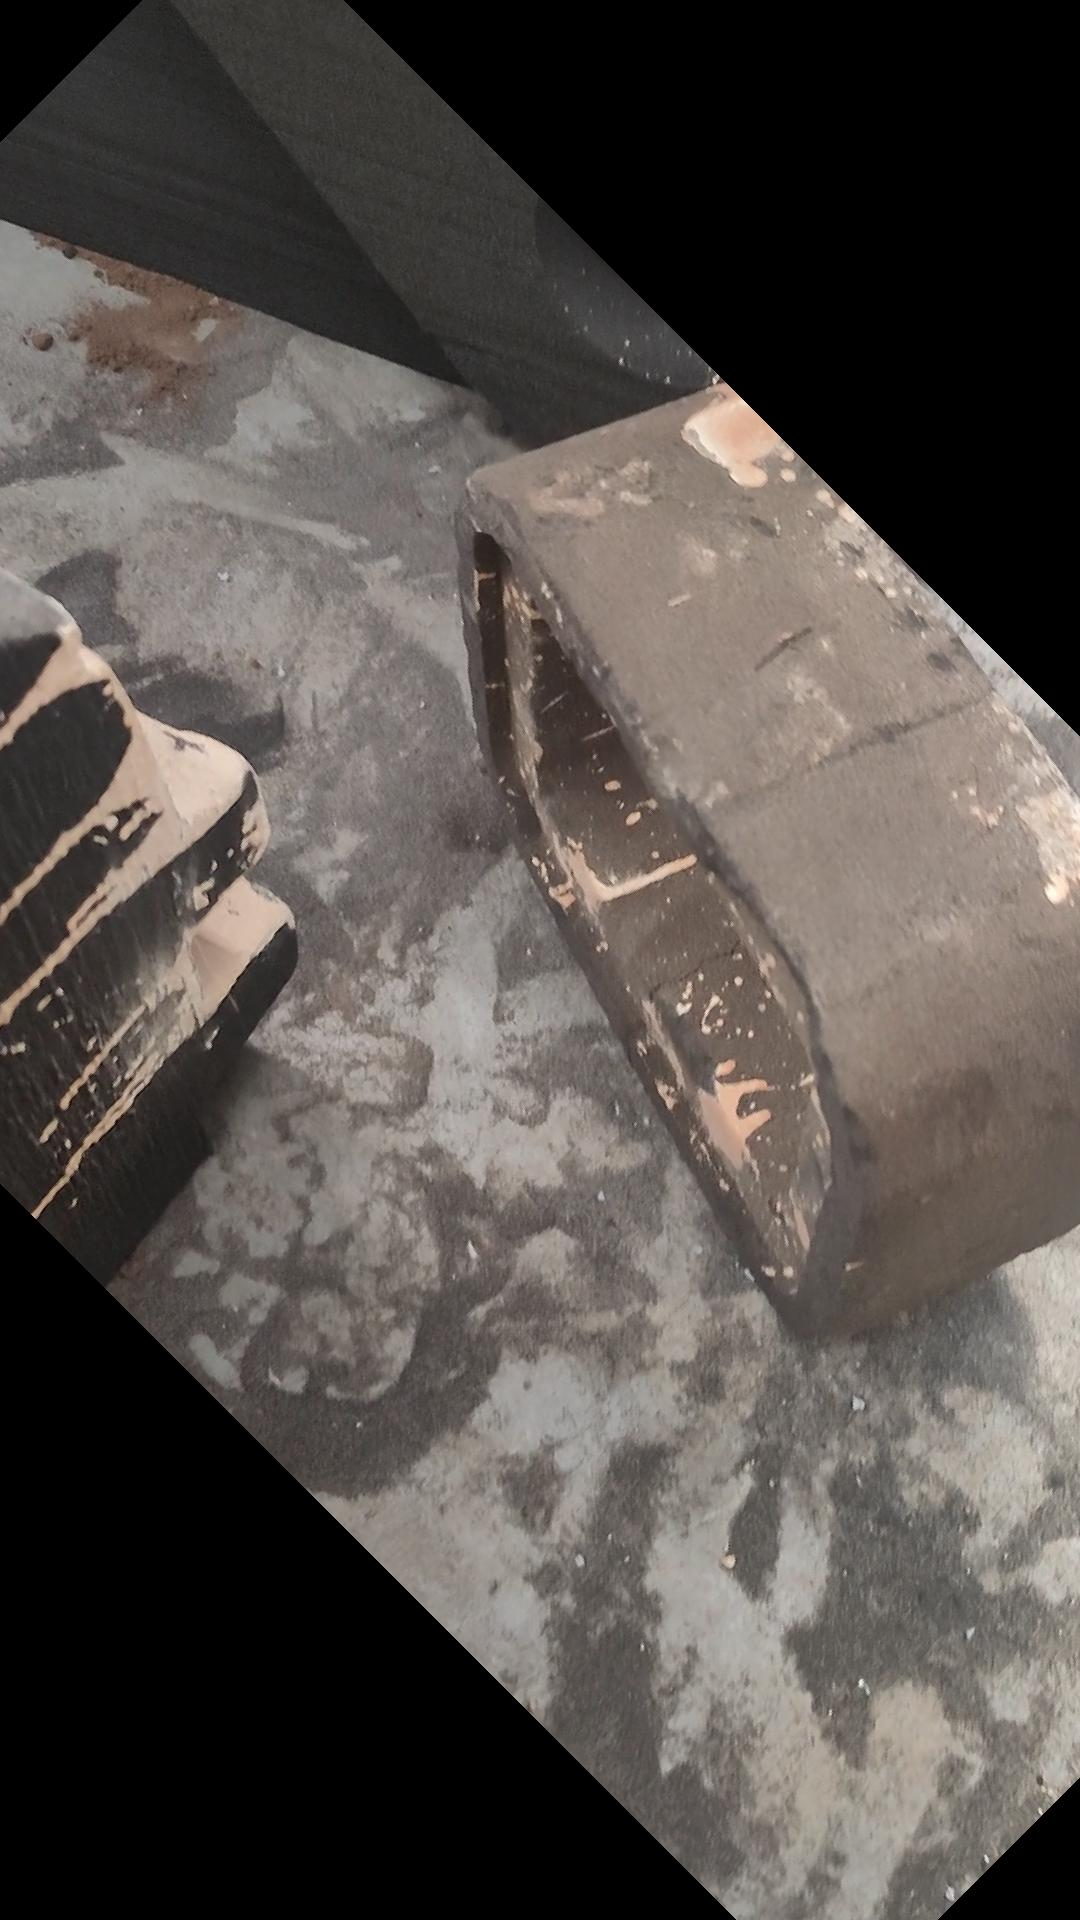pouring hole: (531, 179, 736, 388)
